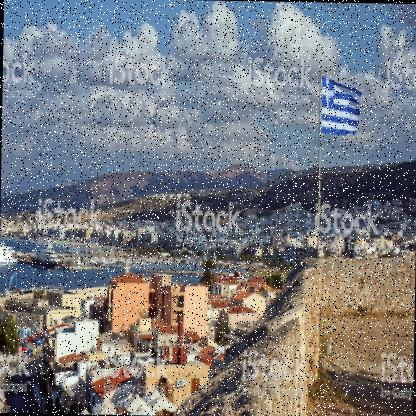gr: (321, 73, 362, 137)
